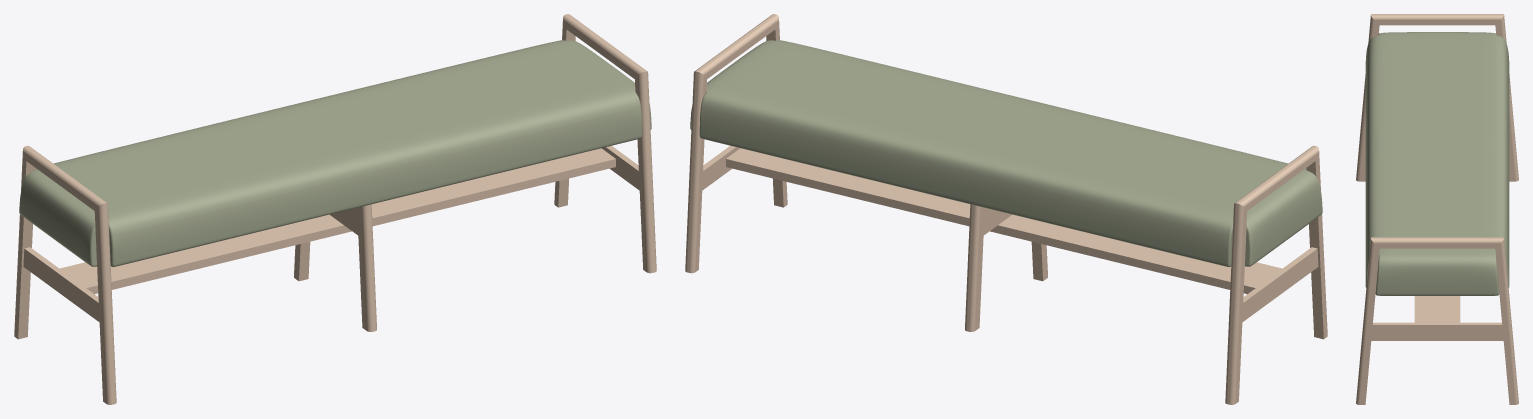
The model's file is 540_ダイニングベンチ3人掛け.glb.
3 views of the same model, side by side, from view 1: azimuth 30°, elevation 25°; view 2: azimuth 150°, elevation 25°; view 3: azimuth 270°, elevation 25° (orthographic). The views are drawn at different scales.
Visible parts, largest first — view 1: Body; view 2: Body; view 3: Body.
Part boxes in pixels (<box>): Body: <box>14,14,656,404</box>; Body: <box>685,14,1327,404</box>; Body: <box>1356,14,1518,404</box>.
Size of the model in its own units: 1.45 by 0.48 by 0.43.
